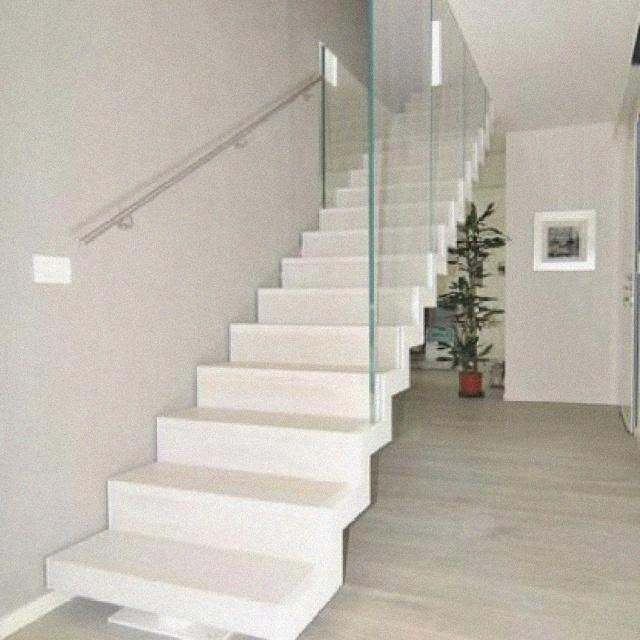stair: (14, 66, 506, 624)
